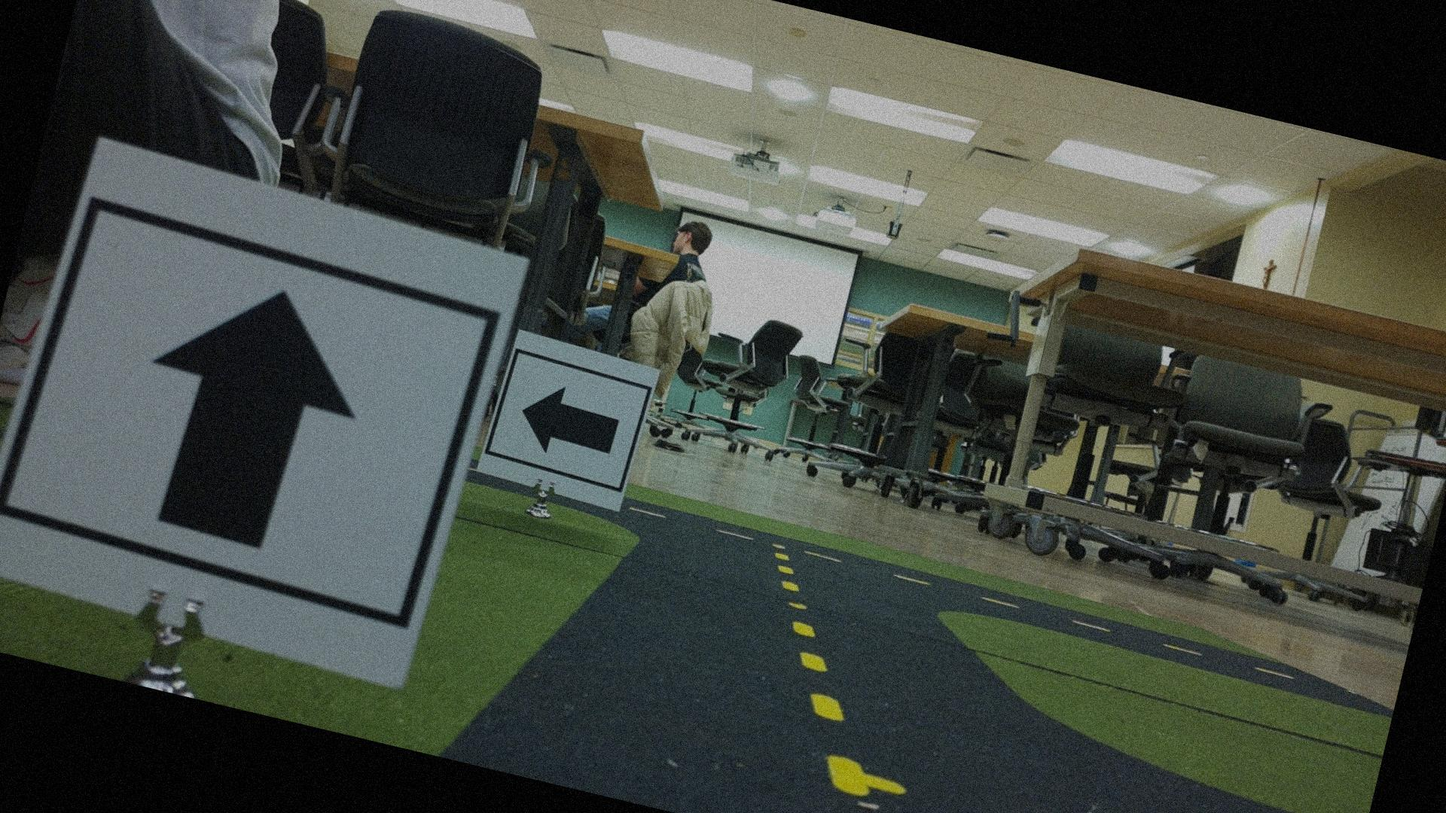gostraight: (0, 140, 499, 670)
yellowline: (724, 542, 914, 793)
